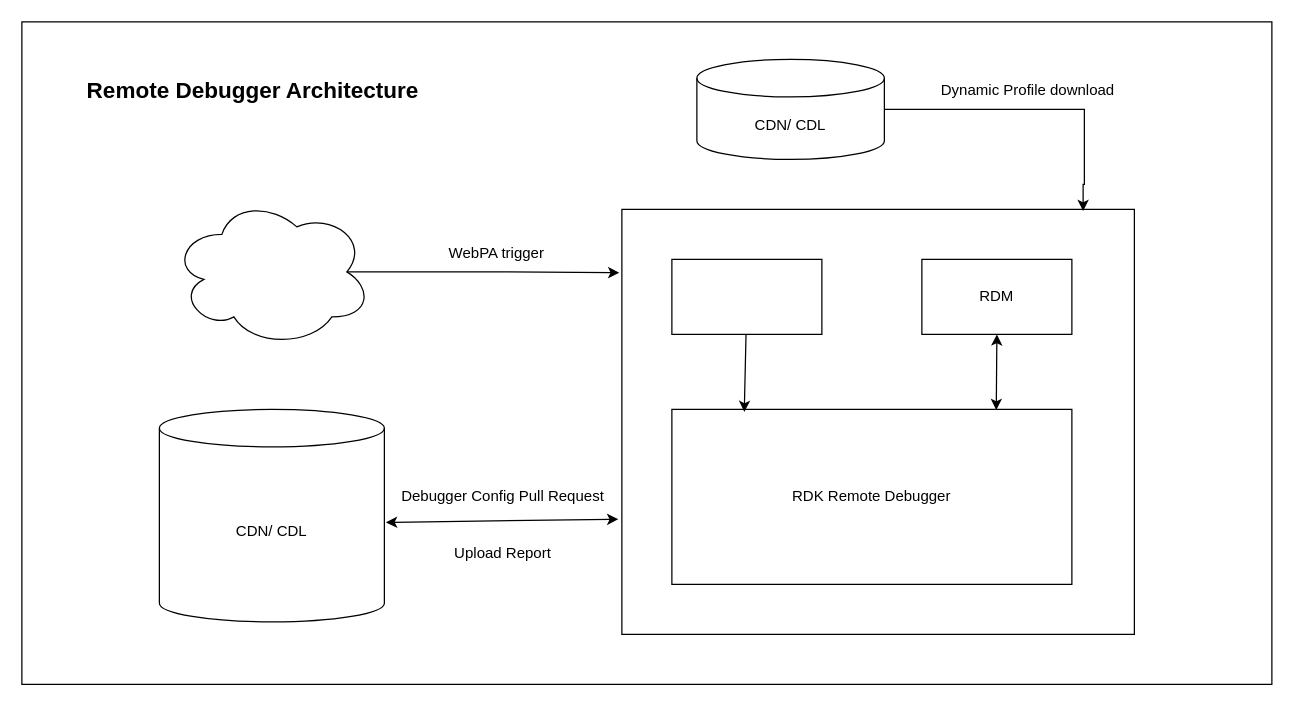
Some shapes in this 1294 by 706 pixel diagram are drawn without their labels. Here are the shapes that lost their labels. From the top down, the centre of each, then its label:
pixel 271 271: Cloud
pixel 746 296: WebPA
